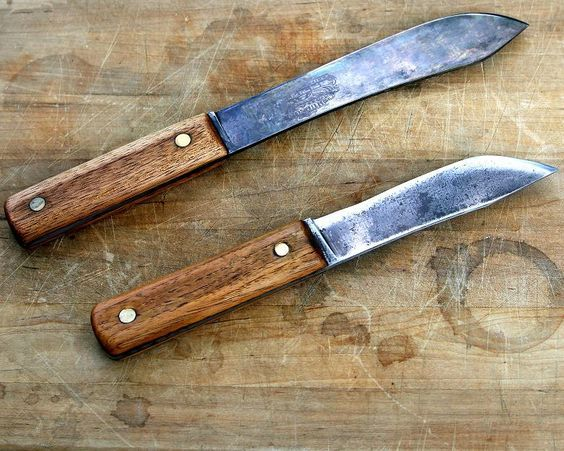knife: (3, 7, 533, 253), (79, 149, 561, 369)
